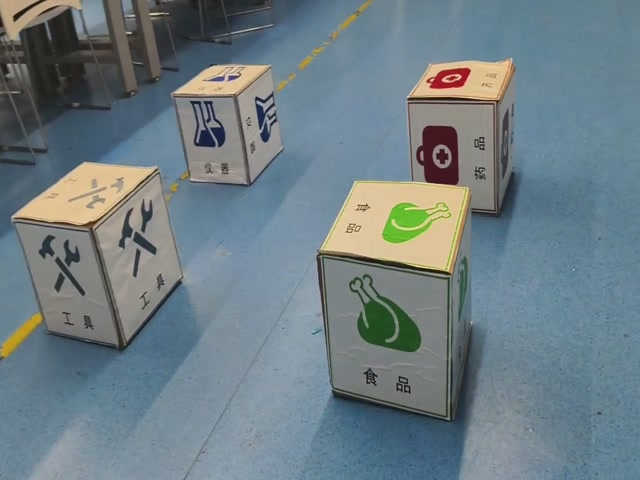Cube_food: (319, 176, 477, 281)
Cube_ins: (171, 62, 262, 95)
Cube_medicine: (403, 58, 513, 105)
Cube_tool: (12, 157, 160, 237)
